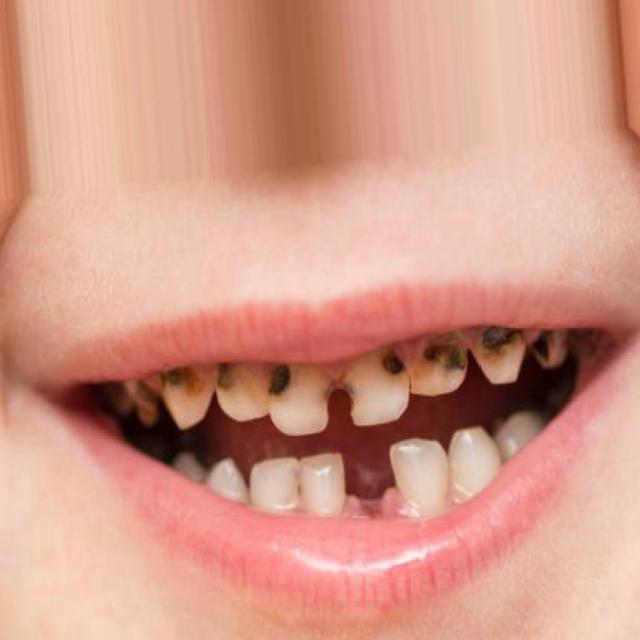caries: (472, 312, 525, 390), (154, 351, 205, 421), (253, 351, 303, 421), (419, 328, 467, 400), (316, 368, 364, 431), (528, 318, 571, 380), (370, 336, 414, 396), (210, 344, 251, 408), (125, 372, 165, 432)
